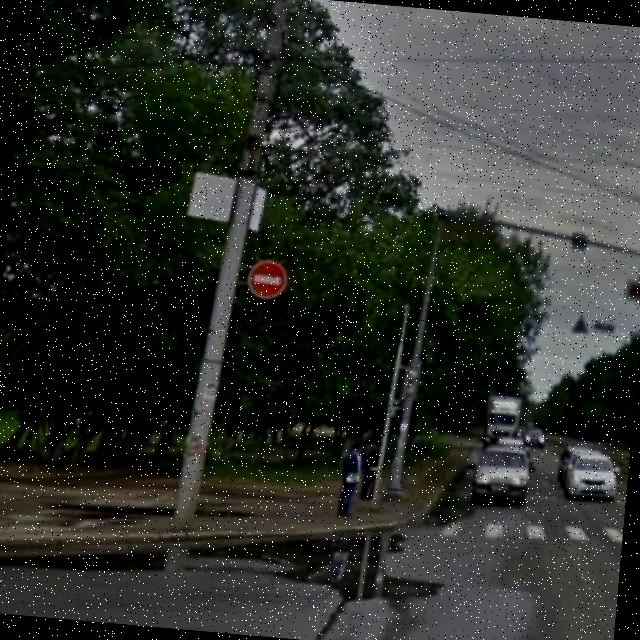Zakaz wjazdu: (244, 253, 290, 305)
